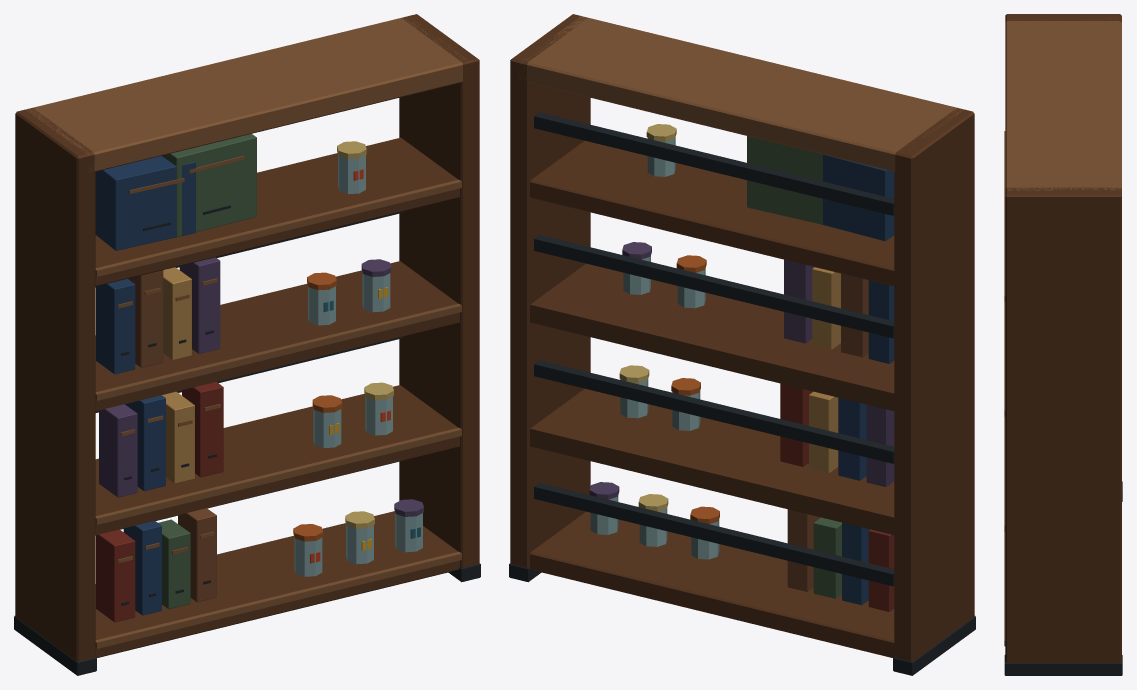
The model's file is 0-20261016-1900-ev019-r03-art-shelving.fbx.
3 renders of one model, left to right at view 1: azimuth 30°, elevation 25°; view 2: azimuth 150°, elevation 25°; view 3: azimuth 270°, elevation 25°, orthographic. The views are drawn at different scales.
Visible parts, largest first — view 1: SW_Art_Shelving; view 2: SW_Art_Shelving; view 3: SW_Art_Shelving.
Boxes of the visible parts, x1=… form: SW_Art_Shelving: x1=14, y1=14, x2=480, y2=675; SW_Art_Shelving: x1=509, y1=14, x2=975, y2=675; SW_Art_Shelving: x1=1004, y1=14, x2=1122, y2=675.
Size of the model in its own units: 148 by 182 by 40.55.
